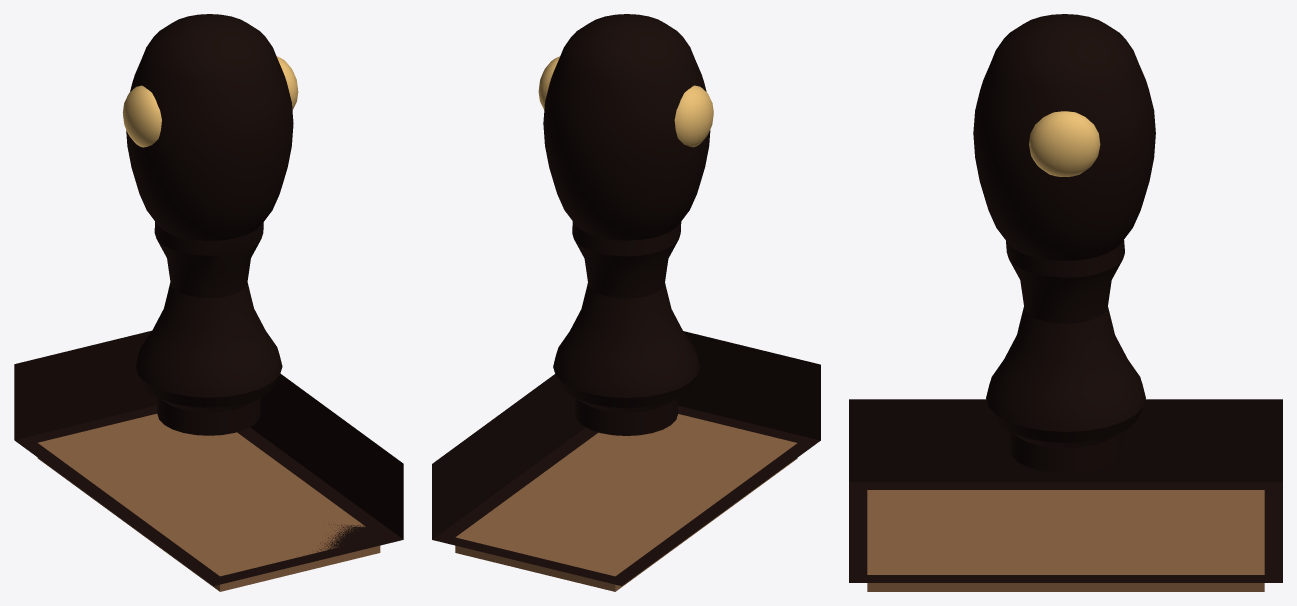
Rendered from dead-woman.glb.
3 views of the same model, side by side, from view 1: azimuth 30°, elevation 25°; view 2: azimuth 150°, elevation 25°; view 3: azimuth 270°, elevation 25° (orthographic). The views are drawn at different scales.
Parts seen in each view (by area): view 1: Sphere, Plane.006, Sphere.001; view 2: Sphere, Plane.006, Sphere.001; view 3: Sphere, Plane.006, Sphere.001.
Part boxes in pixels (x1,y1,x2,y2): Sphere: (14,14,403,585); Plane.006: (37,413,380,591); Sphere.001: (122,56,298,147); Sphere: (432,14,820,585); Plane.006: (455,414,797,591); Sphere.001: (538,56,713,147); Sphere: (849,14,1282,582); Plane.006: (867,490,1264,591); Sphere.001: (1029,111,1100,176).
Size of the model in its own units: 0.8512 by 2.08 by 1.55.
